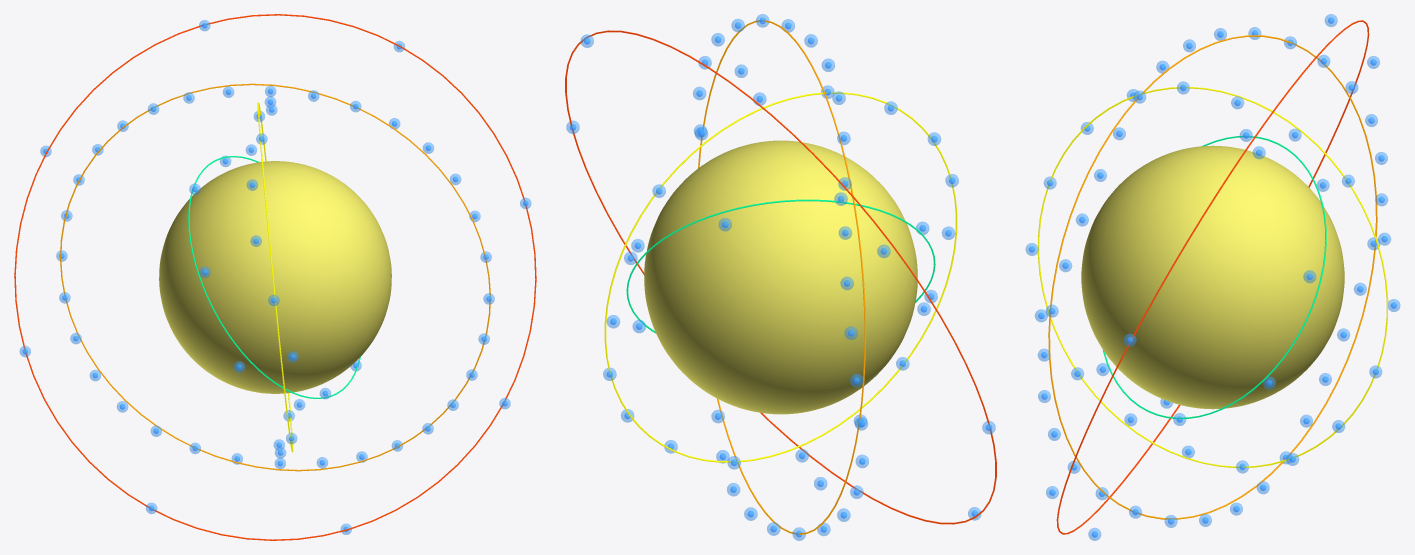
3 views of the same model, side by side, from view 1: azimuth 30°, elevation 25°; view 2: azimuth 150°, elevation 25°; view 3: azimuth 270°, elevation 25° (orthographic). The views are drawn at different scales.
Visible parts, largest first — view 1: Er, object 126, object 61, object 24, object 7; view 2: Er, object 126, object 24, object 61, object 7; view 3: Er, object 61, object 24, object 126, object 7.
Part boxes in pixels (box(x1,y1,x2,y2)): Er: box(159, 161, 391, 393); object 126: box(14, 14, 536, 540); object 61: box(60, 83, 490, 471); object 24: box(257, 102, 293, 452); object 7: box(188, 156, 360, 398); Er: box(644, 140, 917, 414); object 126: box(565, 30, 996, 524); object 24: box(604, 92, 957, 462); object 61: box(698, 20, 865, 534); object 7: box(626, 199, 935, 333); Er: box(1081, 145, 1344, 409); object 61: box(1048, 35, 1377, 519); object 24: box(1037, 86, 1388, 468); object 126: box(1056, 20, 1369, 534); object 7: box(1103, 136, 1326, 419).
Bounding box in the file's own units: 6.92 × 6.75 × 4.54.
